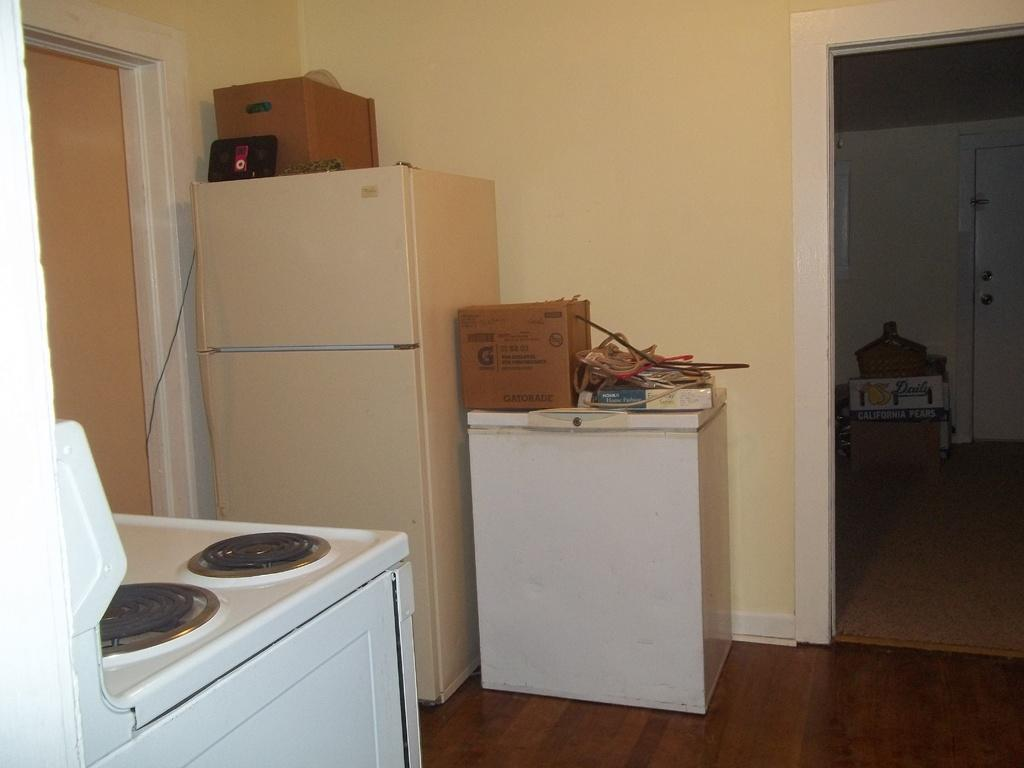handle: (178, 186, 206, 344), (198, 346, 222, 454), (978, 288, 1000, 317)
